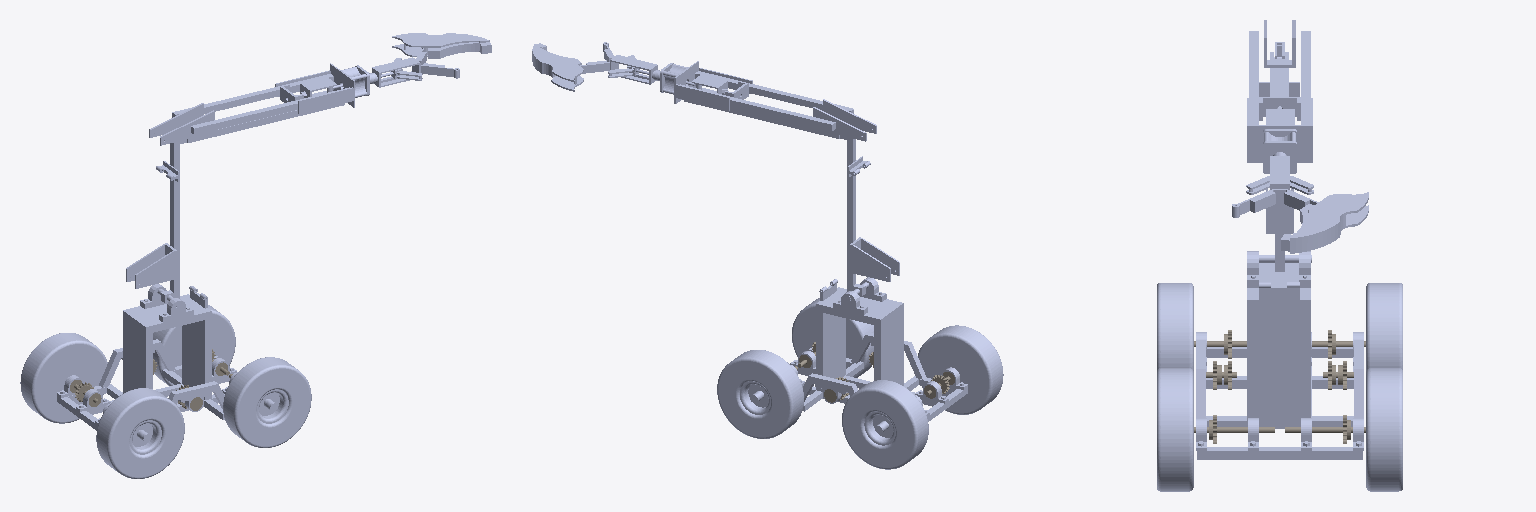
--- Facts derived from the render (not from the file) ---
Views: 3 orthographic renders of the robot side by side, from view 1: azimuth 30°, elevation 25°; view 2: azimuth 150°, elevation 25°; view 3: azimuth 270°, elevation 25°.
Model Assem_fnl with 19 links and 18 joints (11 revolute, 1 prismatic, 6 fixed), rooted at base_link, posed all joints at 0.
Links seen in each view (by area): view 1: motorkooper_link, link_t2_2, link_t1_2, link_t2_1, struct_over_dual_link, base_link, rod_wth_cylin_link, dual_redrod_link, link_t1_1, claw_2_link, sub_claw_part_1_link, claw_part_2_2_link; view 2: motorkooper_link, link_t2_1, link_t1_1, link_t2_2, struct_over_dual_link, base_link, rod_wth_cylin_link, dual_redrod_link, link_t1_2, claw_2_link, sub_claw_part_1_link, claw_part_2_2_link; view 3: motorkooper_link, base_link, struct_over_dual_link, link_t1_2, link_t1_1, link_t2_1, link_t2_2, claw_2_link, rod_wth_cylin_link, sub_claw_part_1_link, dual_redrod_link, claw_part_2_2_link.
Link boxes in pixels (<box>): motorkooper_link: <box>123,284,211,399</box>; link_t2_2: <box>96,388,184,478</box>; link_t1_2: <box>223,357,311,447</box>; link_t2_1: <box>20,333,107,423</box>; struct_over_dual_link: <box>172,63,376,134</box>; base_link: <box>57,339,237,430</box>; rod_wth_cylin_link: <box>126,140,186,307</box>; dual_redrod_link: <box>149,103,344,145</box>; link_t1_1: <box>153,305,235,385</box>; claw_2_link: <box>392,33,491,58</box>; sub_claw_part_1_link: <box>372,48,459,87</box>; claw_part_2_2_link: <box>300,58,422,97</box>; motorkooper_link: <box>816,277,903,391</box>; link_t2_1: <box>842,380,928,469</box>; link_t1_1: <box>717,350,803,438</box>; link_t2_2: <box>918,325,1003,414</box>; struct_over_dual_link: <box>653,61,853,130</box>; base_link: <box>790,332,967,421</box>; rod_wth_cylin_link: <box>840,135,899,300</box>; dual_redrod_link: <box>684,99,876,141</box>; link_t1_2: <box>792,298,873,377</box>; claw_2_link: <box>532,43,583,91</box>; sub_claw_part_1_link: <box>580,42,657,84</box>; claw_part_2_2_link: <box>608,55,727,94</box>; motorkooper_link: <box>1247,251,1310,421</box>; base_link: <box>1196,332,1363,459</box>; struct_over_dual_link: <box>1247,31,1312,173</box>; link_t1_2: <box>1157,368,1193,491</box>; link_t1_1: <box>1366,368,1402,491</box>; link_t2_1: <box>1366,283,1402,370</box>; link_t2_2: <box>1157,283,1193,370</box>; claw_2_link: <box>1281,192,1368,253</box>; rod_wth_cylin_link: <box>1259,42,1311,271</box>; sub_claw_part_1_link: <box>1232,156,1318,217</box>; dual_redrod_link: <box>1264,20,1295,108</box>; claw_part_2_2_link: <box>1246,109,1313,194</box>.
Size in the robot's own frame: 1.67 by 0.6001 by 1.17 metres.
Meshes: 19 distinct files referenced, 18 mesh visuals loaded (18 binary STL); not drawn: 1 (reference not matched to a file when rendering).

The robot description file, URDF, robot "Assem_fnl":
<?xml version="1.0" encoding="utf-8"?>
<!-- This URDF was automatically created by SolidWorks to URDF Exporter! Originally created by Stephen Brawner ([email redacted])
     Commit Version: 1.6.0-1-g15f4949  Build Version: 1.6.7594.29634
     For more information, please see http://wiki.ros.org/sw_urdf_exporter -->
<robot
  name="Assem_fnl">

  <gazebo>
    <plugin name="gazebo_ros_control" filename="libgazebo_ros_control.so">
      <robotNamespace></robotNamespace>
      <robotSimType>gazebo_ros_control/DefaultRobotHWSim</robotSimType>
      <legacyModeNS>true</legacyModeNS>
    </plugin>
  </gazebo>
<!--
  <gazebo>
    <plugin name="MimicJointPlugin" filename="libroboticsgroup_gazebo_mimic_joint_plugin.so">
      <joint>claw_part_3_joint</joint>
      <mimicJoint>claw_1_joint</mimicJoint>
    </plugin>
  </gazebo>
-->
<!--
 <gazebo>
     <plugin name="Myrobot_ClosedLoopPlugin" filename="libpegasus_gazebo_closed_loop_plugin.so">
         <joint>plate_gripper_joint</joint>
         <child>claw_1_link</child>
         <parent>claw_part_3_link</parent>
         <position>0.0 0.0 0.0</position>
         <rotation>0.00 -0.00 0.00</rotation>
     </plugin>
 </gazebo>
-->

  <link
    name="base_link">
    <inertial>
      <origin
        xyz="0.000245228555021293 -0.000485601868001451 0.0326909146616174"
        rpy="0 0 0" />
      <mass
        value="50.6467934"/>
      <inertia
        ixx="0.487436962309936"
        ixy="-1.41855005569046E-05"
        ixz="0.000115722726747853"
        iyy="0.884389812574198"
        iyz="-0.000233043409626158"
        izz="1.30737819360333" />
    </inertial>
    <visual>
      <origin
        xyz="0 0 0"
        rpy="0 0 0" />
      <geometry>
        <mesh
          filename="package://Assem_fnl/meshes/visual/base_link.STL" />
      </geometry>
      <material
        name="">
        <color
          rgba="0.792156862745098 0.819607843137255 0.933333333333333 1" />
      </material>
    </visual>
    <collision>
      <origin
        xyz="0 0 0"
        rpy="0 0 0" />
      <geometry>
        <mesh
          filename="package://Assem_fnl/meshes/collision/base_link.stl" />
      </geometry>
    </collision>
  </link>
  <link
    name="link_sh1_1">
    <inertial>
      <origin
        xyz="3.60822483003176E-16 0.0266401832789713 2.77555756156289E-17"
        rpy="0 0 0" />
      <mass
        value="1.88910976344759" />
      <inertia
        ixx="0.00815057397058659"
        ixy="2.36548102133572E-17"
        ixz="0"
        iyy="0.00055983034329253"
        iyz="3.14474323677546E-18"
        izz="0.00815057397058659" />
    </inertial>
    <visual>
      <origin
        xyz="0 0 0"
        rpy="0 0 0" />
      <geometry>
        <mesh
          filename="package://Assem_fnl/meshes/visual/link_sh1_1.STL" />
      </geometry>
      <material
        name="">
        <color
          rgba="0.647058823529412 0.619607843137255 0.584313725490196 1" />
      </material>
    </visual>
    <collision>
      <origin
        xyz="0 0 0"
        rpy="0 0 0" />
      <geometry>
        <mesh
          filename="package://Assem_fnl/meshes/collision/link_sh1_1.stl" />
      </geometry>
    </collision>
  </link>
  <joint
    name="joint_sh1_1"
    type="revolute">
    <origin
      xyz="0.246 0.1631 0.053"
      rpy="0 0.61414 0" />
    <parent
      link="base_link" />
    <child
      link="link_sh1_1" />
    <axis
      xyz="0 1 0" />
    <limit
      lower="0"
      upper="6.283"
      effort="0"
      velocity="0" />
      <!-- forward +ve -->

  </joint>
  <link
    name="link_t1_1">
    <inertial>
      <origin
        xyz="0 -0.0437281587639727 3.46944695195361E-18"
        rpy="0 0 0" />
      <mass
        value="7" />
      <inertia
        ixx="0.90"
        ixy="0.97"
        ixz="0.78"
        iyx="0.97"
        iyy="2.19"
        iyz="0.42"
        izx="0.78"
        izy="0.42"
        izz="2.41" />
    </inertial>
    <visual>
      <origin
        xyz="0 0 0"
        rpy="0 0 0" />
      <geometry>
        <mesh
          filename="package://Assem_fnl/meshes/visual/link_t1_1.STL" />
      </geometry>
      <material
        name="">
        <color
          rgba="0.792156862745098 0.819607843137255 0.933333333333333 1" />
      </material>
    </visual>
    <collision>
      <origin
        xyz="0 0 0"
        rpy="0 0 0" />
      <geometry>
        <mesh
          filename="package://Assem_fnl/meshes/collision/link_t1_1.stl" />
      </geometry>
    </collision>
  </link>
  <joint
    name="joint_t1_1"
    type="fixed">
    <origin
      xyz="0 0.047 0"
      rpy="3.1416 -1.3284 0" />
    <parent
      link="link_sh1_1" />
    <child
      link="link_t1_1" />
    <axis
      xyz="0 0 0" />
    <limit
      lower="0"
      upper="0"
      effort="0"
      velocity="0" />
    <dynamics
      friction= "1000" />
  </joint>
  <link
    name="link_sh1_2">
    <inertial>
      <origin
        xyz="3.81639164714898E-16 0.0266401832789712 0"
        rpy="0 0 0" />
      <mass
        value="1.88910976344759" />
      <inertia
        ixx="0.00815057397058659"
        ixy="2.3314941049737E-17"
        ixz="0"
        iyy="0.00055983034329253"
        iyz="2.99631939640779E-18"
        izz="0.00815057397058659" />
    </inertial>
    <visual>
      <origin
        xyz="0 0 0"
        rpy="0 0 0" />
      <geometry>
        <mesh
          filename="package://Assem_fnl/meshes/visual/link_sh1_2.STL" />
      </geometry>
      <material
        name="">
        <color
          rgba="0.647058823529412 0.619607843137255 0.584313725490196 1" />
      </material>
    </visual>
    <collision>
      <origin
        xyz="0 0 0"
        rpy="0 0 0" />
      <geometry>
        <mesh
          filename="package://Assem_fnl/meshes/collision/link_sh1_2.stl" />
      </geometry>
    </collision>
  </link>
  <joint
    name="joint_sh1_2"
    type="revolute">
    <origin
      xyz="0.246 -0.163 0.053"
      rpy="0 -0.37309 3.1416" />
    <parent
      link="base_link" />
    <child
      link="link_sh1_2" />
    <axis
      xyz="0 1 0" />
    <limit
      lower="0"
      upper="6.283"
      effort="10"
      velocity="2" />
      <!--forward at negative -->
  </joint>
  <link
    name="link_t1_2">
    <inertial>
      <origin
        xyz="-6.93889390390723E-18 -0.0437281587639726 0"
        rpy="0 0 0" />
      <mass
        value="7" />
      <inertia
        ixx="1.01"
        ixy="0.01"
        ixz="0"
        iyx="0.01"
        iyy="0.21"
        iyz="0.00"
        izx="0"
        izy="0.00"
        izz="1.15" />
    </inertial>
    <visual>
      <origin
        xyz="0 0 0"
        rpy="0 0 0" />
      <geometry>
        <mesh
          filename="package://Assem_fnl/meshes/visual/link_t1_2.STL" />
      </geometry>
      <material
        name="">
        <color
          rgba="0.792156862745098 0.819607843137255 0.933333333333333 1" />
      </material>
    </visual>
    <collision>
      <origin
        xyz="0 0 0"
        rpy="0 0 0" />
      <geometry>
        <mesh
          filename="package://Assem_fnl/meshes/collision/link_t1_2.stl" />
      </geometry>
    </collision>
  </link>
  <joint
    name="joint_t1_2"
    type="fixed">
    <origin
      xyz="0 0.047 0"
      rpy="0 0.6334 3.1416" />
    <parent
      link="link_sh1_2" />
    <child
      link="link_t1_2" />
    <axis
      xyz="0 0 0" />
    <limit
      lower="0"
      upper="0"
      effort="0"
      velocity="0" />
    <dynamics
      friction ="1000" />
  </joint>
  <link
    name="link_sh2_1">
    <inertial>
      <origin
        xyz="4.44089209850063E-16 0.00429143099730334 -1.11022302462516E-16"
        rpy="0 0 0" />
      <mass
        value="1.91717027267991" />
      <inertia
        ixx="0.00832905389350432"
        ixy="-7.8383224326297E-19"
        ixz="0"
        iyy="0.00056061954511469"
        iyz="1.47358871394239E-19"
        izz="0.00832905389350432" />
    </inertial>
    <visual>
      <origin
        xyz="0 0 0"
        rpy="0 0 0" />
      <geometry>
        <mesh
          filename="package://Assem_fnl/meshes/visual/link_sh2_1.STL" />
      </geometry>
      <material
        name="">
        <color
          rgba="0.647058823529412 0.619607843137255 0.584313725490196 1" />
      </material>
    </visual>
    <collision>
      <origin
        xyz="0 0 0"
        rpy="0 0 0" />
      <geometry>
        <mesh
          filename="package://Assem_fnl/meshes/collision/link_sh2_1.stl" />
      </geometry>
    </collision>
  </link>
  <joint
    name="joint_sh2_1"
    type="revolute">
    <origin
      xyz="-0.246 0.127 0.053"
      rpy="3.1416 1.0385 3.1416" />
    <parent
      link="base_link" />
    <child
      link="link_sh2_1" />
    <axis
      xyz="0 1 0" />
    <limit
      lower="0"
      upper="6.283"
      effort="0"
      velocity="0" />

  </joint>
  <link
    name="link_t2_1">
    <inertial>
      <origin
        xyz="-1.11022302462516E-16 -0.0437281587639727 2.77555756156289E-17"
        rpy="0 0 0" />
      <mass
        value="7" />
      <inertia
        ixx="0.90"
        ixy="0.03"
        ixz="0.03"
        iyx="0.03"
        iyy="0.38"
        iyz="0.42"
        izx="0.03"
        izy="0.42"
        izz="0.60"  />
    </inertial>
    <visual>
      <origin
        xyz="0 0 0"
        rpy="0 0 0" />
      <geometry>
        <mesh
          filename="package://Assem_fnl/meshes/visual/link_t2_1.STL" />
      </geometry>
      <material
        name="">
        <color
          rgba="0.792156862745098 0.819607843137255 0.933333333333333 1" />
      </material>
    </visual>
    <collision>
      <origin
        xyz="0 0 0"
        rpy="0 0 0" />
      <geometry>
        <mesh
          filename="package://Assem_fnl/meshes/collision/link_t2_1.stl" />
      </geometry>
    </collision>
  </link>
  <joint
    name="joint_t2_1"
    type="fixed">
    <origin
      xyz="0 0.083 0"
      rpy="3.1416 -0.37818 0" />
    <parent
      link="link_sh2_1" />
    <child
      link="link_t2_1" />
    <axis
      xyz="0 0 0" />
    <limit
      lower="0"
      upper="0"
      effort="0"
      velocity="0" />
    <dynamics
      friction ="1000" />
  </joint>
  <link
    name="link_sh2_2">
    <inertial>
      <origin
        xyz="3.33066907387547E-16 0.00429143099730334 -5.55111512312578E-17"
        rpy="0 0 0" />
      <mass
        value="1.91717027267991" />
      <inertia
        ixx="0.00832905389350432"
        ixy="-1.02531408348597E-18"
        ixz="0"
        iyy="0.00056061954511469"
        iyz="-8.7774241875515E-22"
        izz="0.00832905389350432" />
    </inertial>
    <visual>
      <origin
        xyz="0 0 0"
        rpy="0 0 0" />
      <geometry>
        <mesh
          filename="package://Assem_fnl/meshes/visual/link_sh2_2.STL" />
      </geometry>
      <material
        name="">
        <color
          rgba="0.647058823529412 0.619607843137255 0.584313725490196 1" />
      </material>
    </visual>
    <collision>
      <origin
        xyz="0 0 0"
        rpy="0 0 0" />
      <geometry>
        <mesh
          filename="package://Assem_fnl/meshes/collision/link_sh2_2.stl" />
      </geometry>
    </collision>
  </link>
  <joint
    name="joint_sh2_2"
    type="revolute">
    <origin
      xyz="-0.246 -0.127 0.053"
      rpy="0 -0.080442 3.1416" />
    <parent
      link="base_link" />
    <child
      link="link_sh2_2" />
    <axis
      xyz="0 1 0" />
    <limit
      lower="0"
      upper="6.283"
      effort="0"
      velocity="0" />

  </joint>
  <link
    name="link_t2_2">
    <inertial>
      <origin
        xyz="-5.55111512312578E-17 -0.0437281587639727 -1.11022302462516E-16"
        rpy="0 0 0" />
      <mass
        value="7" />
      <inertia
        ixx="4.25"
        ixy="0.03"
        ixz="0.09"
        iyx="0.03"
        iyy="3.74"
        iyz="1.38"
        izx="0.09"
        izy="1.38"
        izz="0.60" />
    </inertial>
    <visual>
      <origin
        xyz="0 0 0"
        rpy="0 0 0" />
      <geometry>
        <mesh
          filename="package://Assem_fnl/meshes/visual/link_t2_2.STL" />
      </geometry>
      <material
        name="">
        <color
          rgba="0.792156862745098 0.819607843137255 0.933333333333333 1" />
      </material>
    </visual>
    <collision>
      <origin
        xyz="0 0 0"
        rpy="0 0 0" />
      <geometry>
        <mesh
          filename="package://Assem_fnl/meshes/collision/link_t2_2.stl" />
      </geometry>
    </collision>
  </link>
  <joint
    name="joint_t2_2"
    type="fixed">
    <origin
      xyz="0 0.083 0"
      rpy="0 -0.14131 3.1416" />
    <parent
      link="link_sh2_2" />
    <child
      link="link_t2_2" />
    <axis
      xyz="0 0 0" />
    <limit
      lower="0"
      upper="0"
      effort="0"
      velocity="0" />
    <dynamics
      friction ="1000" />

  </joint>
  <link
    name="link_Msh_1">
    <inertial>
      <origin
        xyz="-1.16573417585641E-15 -0.00188400148089063 -1.11022302462516E-16"
        rpy="0 0 0" />
      <mass
        value="1.28736459459753" />
      <inertia
        ixx="0.00141991589660242"
        ixy="2.07057765245373E-17"
        ixz="-1.62630325872826E-19"
        iyy="0.00045732350572063"
        iyz="2.53242925407615E-18"
        izz="0.00141991589660242" />
    </inertial>
    <visual>
      <origin
        xyz="0 0 0"
        rpy="0 0 0" />
      <geometry>
        <mesh
          filename="package://Assem_fnl/meshes/visual/link_Msh_1.STL" />
      </geometry>
      <material
        name="">
        <color
          rgba="0.647058823529412 0.619607843137255 0.584313725490196 1" />
      </material>
    </visual>
    <collision>
      <origin
        xyz="0 0 0"
        rpy="0 0 0" />
      <geometry>
        <mesh
          filename="package://Assem_fnl/meshes/collision/link_Msh_1.stl" />
      </geometry>
    </collision>
  </link>
  <joint
    name="joint_Msh_1"
    type="revolute">
    <origin
      xyz="0 0.152 0.085"
      rpy="3.1416 -0.48321 0" />
    <parent
      link="base_link" />
    <child
      link="link_Msh_1" />
    <axis
      xyz="0 1 0" />
    <limit
      lower="0"
      upper="0"
      effort="0"
      velocity="0" />
  </joint>
  <link
    name="link_Msh_2">
    <inertial>
      <origin
        xyz="-1.11022302462516E-15 -0.00188400148089063 -1.66533453693773E-16"
        rpy="0 0 0" />
      <mass
        value="1.28736459459753" />
      <inertia
        ixx="0.00141991589660242"
        ixy="2.07278499044851E-17"
        ixz="-1.52465930505774E-19"
        iyy="0.000457323505720631"
        iyz="2.57968883021634E-18"
        izz="0.00141991589660242" />
    </inertial>
    <visual>
      <origin
        xyz="0 0 0"
        rpy="0 0 0" />
      <geometry>
        <mesh
          filename="package://Assem_fnl/meshes/visual/link_Msh_2.STL" />
      </geometry>
      <material
        name="">
        <color
          rgba="0.647058823529412 0.619607843137255 0.584313725490196 1" />
      </material>
    </visual>
    <collision>
      <origin
        xyz="0 0 0"
        rpy="0 0 0" />
      <geometry>
        <mesh
          filename="package://Assem_fnl/meshes/collision/link_Msh_2.stl" />
      </geometry>
    </collision>
  </link>
  <joint
    name="joint_Msh_2"
    type="revolute">
    <origin
      xyz="0 -0.152 0.085"
      rpy="0 -0.02542 0" />
    <parent
      link="base_link" />
    <child
      link="link_Msh_2" />
    <axis
      xyz="0 1 0" />
    <limit
      lower="0"
      upper="0"
      effort="0"
      velocity="0" />
  </joint>
  <link
  name="motorkooper_link">
  <inertial>
    <origin
      xyz="-0.00120545300454244 -0.000461143822939658 0.233638316473452"
      rpy="0 0 0" />
    <mass
      value="17.38"  />
    <inertia
      ixx="1.01"
      ixy="0.01"
      ixz="0.00"
      iyx="0.01"
      iyy="0.21"
      iyz="0.00"
      izz="1.15" />
  </inertial>
  <visual>
    <origin
      xyz="0 0 0"
      rpy="0 0 0" />
    <geometry>
      <mesh
        filename="package://Assem_fnl/meshes/visual/motorkooper_link.STL" />
    </geometry>
    <material
      name="">
      <color
        rgba="0.792156862745098 0.819607843137255 0.933333333333333 1" />
    </material>
  </visual>
  <collision>
    <origin
      xyz="0 0 0"
      rpy="0 0 0" />
    <geometry>
      <mesh
        filename="package://Assem_fnl/meshes/collision/motorkooper_link.stl" />
    </geometry>
  </collision>
</link>
<joint
  name="motorkooper_joint"
  type="fixed">
  <origin
    xyz="-0.26 0.47 -0.22"
    rpy="1.5707 0 0" />
  <parent
    link="base_link" />
  <child
    link="motorkooper_link" />
  <axis
    xyz="0 0 0" />
  </joint>
  <link
    name="rod_wth_cylin_link">
    <inertial>
      <origin
        xyz="-0.0244108175794428 -0.012 0.159055527397006"
        rpy="0 0 0" />
      <mass
        value="4.71123767266371" />
      <inertia
        ixx="0.151060078726739"
        ixy="3.46732936958548E-18"
        ixz="-0.0154520234909176"
        iyy="0.15770726800881"
        iyz="5.13063738019691E-18"
        izz="0.0119981780843595" />
    </inertial>
    <visual>
      <origin
        xyz="0 0 0"
        rpy="0 0 0" />
      <geometry>
        <mesh
          filename="package://Assem_fnl/meshes/visual/rod_wth_cylin_link.STL" />
      </geometry>
      <material
        name="">
        <color
          rgba="0.792156862745098 0.819607843137255 0.933333333333333 1" />
      </material>
    </visual>
    <collision>
      <origin
        xyz="0 0 0"
        rpy="0 0 0" />
      <geometry>
        <mesh
          filename="package://Assem_fnl/meshes/collision/rod_wth_cylin_link.stl" />
      </geometry>
    </collision>
  </link>
  <joint
    name="rod_wth_cylin_joint"
    type="revolute">
    <origin
      xyz="0.264 0.618 0.469"
      rpy="-1.5707 0 0" />
    <parent
      link="motorkooper_link" />
    <child
      link="rod_wth_cylin_link" />
    <axis
      xyz="0 -1 0" />
    <limit
      lower="-1.5707"
      upper="0"
      effort="450"
      velocity="5" />
    <dynamics
      friction="100"
      damping="10" />
  </joint>
  <link
    name="dual_redrod_link">
    <inertial>
      <origin
        xyz="-0.285925121637021 0.00708701348815782 0.000547426734640588"
        rpy="0 0 0" />
      <mass
        value="4.96083086557093" />
      <inertia
        ixx="0.00516246254163912"
        ixy="5.51906715867348E-06"
        ixz="0.0123762688360278"
        iyy="0.205745932268244"
        iyz="-7.65215364696908E-07"
        izz="0.205914461908583" />
    </inertial>
    <visual>
      <origin
        xyz="0 0 0"
        rpy="0 0 0" />
      <geometry>
        <mesh
          filename="package://Assem_fnl/meshes/visual/dual_redrod_link.STL" />
      </geometry>
      <material
        name="">
        <color
          rgba="0.792156862745098 0.819607843137255 0.933333333333333 1" />
      </material>
    </visual>
    <collision>
      <origin
        xyz="0 0 0"
        rpy="0 0 0" />
      <geometry>
        <mesh
          filename="package://Assem_fnl/meshes/collision/dual_redrod_link.stl" />
      </geometry>
    </collision>
  </link>
  <joint
    name="dual_redrod_joint"
    type="revolute">
    <origin
      xyz="0.083 -0.003 0.576"
      rpy="0 0 0" />
    <parent
      link="rod_wth_cylin_link" />
    <child
      link="dual_redrod_link" />
    <axis
      xyz="0 1 0" />
    <limit
      lower="-1.5707"
      upper="0.872"
      effort="450"
      velocity="50" />
    <dynamics
      friction="100"
      damping ="10" />
  </joint>
  <link
    name="struct_over_dual_link">
    <inertial>
      <origin
        xyz="-0.12660154538717 -0.0749819442965102 -0.0130685587306965"
        rpy="0 0 0" />
      <mass
        value="10.5541936012649" />
      <inertia
        ixx="0.034593017975491"
        ixy="-4.12202992454498E-05"
        ixz="0.00203404927446369"
        iyy="0.446025462173523"
        iyz="3.23643700805756E-06"
        izz="0.475530168467849" />
    </inertial>
    <visual>
      <origin
        xyz="0 0 0"
        rpy="0 0 0" />
      <geometry>
        <mesh
          filename="package://Assem_fnl/meshes/visual/struct_over_dual_link.STL" />
      </geometry>
      <material
        name="">
        <color
          rgba="0.792156862745098 0.819607843137255 0.933333333333333 1" />
      </material>
    </visual>
    <collision>
      <origin
        xyz="0 0 0"
        rpy="0 0 0" />
      <geometry>
        <mesh
          filename="package://Assem_fnl/meshes/collision/struct_over_dual_link.stl" />
      </geometry>
    </collision>
  </link>
  <joint
    name="struct_over_dual_joint"
    type="fixed">
    <origin
      xyz="0.55 0.077 0.064"
      rpy="0 0 0" />
    <parent
      link="dual_redrod_link" />
    <child
      link="struct_over_dual_link" />
    <axis
      xyz="0 0 0" />
  </joint>

  <link
    name="sub_claw_part_1_link">
    <inertial>
      <origin
        xyz="-0.120154614612147 0.106923881554251 0.0149999999999999"
        rpy="0 0 0" />
      <mass
        value="2.2286648229313" />
      <inertia
        ixx="0.00474450554529489"
        ixy="-9.64460830501308E-18"
        ixz="-8.27206601008833E-18"
        iyy="0.0176232139105464"
        iyz="1.61353159007044E-18"
        izz="0.0211883448190484" />
    </inertial>
    <visual>
      <origin
        xyz="0 0 0"
        rpy="0 0 0" />
      <geometry>
        <mesh
          filename="package://Assem_fnl/meshes/visual/sub_claw_part_1_link.STL" />
      </geometry>
      <material
        name="">
        <color
          rgba="0.792156862745098 0.819607843137255 0.933333333333333 1" />
      </material>
    </visual>
    <collision>
      <origin
        xyz="0 0 0"
        rpy="0 0 0" />
      <geometry>
        <mesh
          filename="package://Assem_fnl/meshes/collision/sub_claw_part_1_link.stl" />
      </geometry>
    </collision>
  </link>
  <joint
    name="sub_claw_part_1_joint"
    type="revolute">
    <origin
      xyz="0.2715 -0.075 -0.015"
      rpy="0 0 0" />
    <parent
      link="struct_over_dual_link" />
    <child
      link="sub_claw_part_1_link" />
    <axis
      xyz="1 0 0" />
    <limit
      lower="0"
      upper="6.283"
      effort="10"
      velocity="2" />
  </joint>

  <link
  name="claw_part_2_2_link">
  <inertial>
    <origin
      xyz="-0.177150603741962 -0.0149999049377803 -1.14911758997138E-07"
      rpy="0 0 0" />
    <mass
      value="1.48172924497085" />
    <inertia
      ixx="0.00149362963443841"
      ixy="1.84684922214377E-08"
      ixz="-2.69312585031865E-08"
      iyy="0.0349934185815546"
      iyz="-2.37436554810784E-09"
      izz="0.0356299058432863" />
  </inertial>
  <visual>
    <origin
      xyz="0 0 0"
      rpy="0 0 0" />
    <geometry>
      <mesh
        filename="package://Assem_fnl/meshes/visual/claw_part_2_2_link.STL" />
    </geometry>
    <material
      name="">
      <color
        rgba="0.792156862745098 0.819607843137255 0.933333333333333 1" />
    </material>
  </visual>
  <collision>
    <origin
      xyz="0 0 0"
      rpy="0 0 0" />
    <geometry>
      <mesh
        filename="package://Assem_fnl/meshes/collision/claw_part_2_2_link.stl" />
    </geometry>
  </collision>
</link>
<joint
  name="claw_part_2_2_joint"
  type="prismatic">
  <origin
    xyz="-0.013 0 0"
    rpy="0 0 0" />
  <parent
    link="sub_claw_part_1_link" />
  <child
    link="claw_part_2_2_link" />
  <axis
    xyz="1 0 0" />
  <limit
    lower="-0.05"
    upper="0.05"
    effort="0"
    velocity="0" />
</joint>

  <link
  name="claw_1_link">
  <inertial>
    <origin
      xyz="-0.0685036800834815 0.0410807887941437 0.0149999999999997"
      rpy="0 0 0" />
    <mass
      value="3.76611840248057" />
    <inertia
      ixx="0.00648721569485819"
      ixy="-0.00484931338159159"
      ixz="-9.05152921499203E-18"
      iyy="0.027371208605494"
      iyz="-4.27670905535636E-18"
      izz="0.0319709511637982" />
  </inertial>
  <visual>
    <origin
      xyz="0 0 0"
      rpy="0 0 0" />
    <geometry>
      <mesh
        filename="package://Assem_fnl/meshes/visual/claw_1_link.STL" />
    </geometry>
    <material
      name="">
      <color
        rgba="0.792156862745098 0.819607843137255 0.933333333333333 1" />
    </material>
  </visual>
  <collision>
    <origin
      xyz="0 0 0"
      rpy="0 0 0" />
    <geometry>
      <mesh
        filename="package://Assem_fnl/meshes/collision/claw_1_link.stl" />
    </geometry>
  </collision>
</link>
<joint
  name="claw_1_joint"
  type="revolute">
  <origin
    xyz="0.158 -0.1065 0"
    rpy="0 0 0.261" />
  <parent
    link="sub_claw_part_1_link" />
  <child
    link="claw_1_link" />
  <axis
    xyz="0 0 1" />
  <limit
    lower="-0.29"
    upper="0"
    effort="10"
    velocity="5" />
    <!-- lower minus -->
</joint>


<link
name="claw_2_link">
<inertial>
  <origin
    xyz="-0.0685036800834813 0.0410807887941437 0.0149999999999999"
    rpy="0 0 0" />
  <mass
    value="3.76611840248056" />
  <inertia
    ixx="0.00648721569485816"
    ixy="-0.0048493133815916"
    ixz="-4.07757245731701E-18"
    iyy="0.027371208605494"
    iyz="-6.67090062032985E-18"
    izz="0.0319709511637982" />
</inertial>
<visual>
  <origin
    xyz="0 0 0"
    rpy="0 0 0" />
  <geometry>
    <mesh
      filename="package://Assem_fnl/meshes/visual/claw_2_link.STL" />
  </geometry>
  <material
    name="">
    <color
      rgba="0.792156862745098 0.819607843137255 0.933333333333333 1" />
  </material>
</visual>
<collision>
  <origin
    xyz="0 0 0"
    rpy="0 0 0" />
  <geometry>
    <mesh
      filename="package://Assem_fnl/meshes/collision/claw_2_link.stl" />
  </geometry>
</collision>
</link>
<joint
name="claw_2_joint"
type="revolute">
<origin
  xyz="0.158 0.1065 0"
  rpy="3.14 0 -0.261" />
<parent
  link="sub_claw_part_1_link" />
<child
  link="claw_2_link" />
<axis
  xyz="0 0 1" />
<limit
  lower="-0.29"
  upper="0"
  effort="10"
  velocity="5" />
</joint>

<!-- ################################################# PROPERTIES ############################################### -->
<gazebo reference="claw_1_link">
  <kp>100000.0</kp>
  <kd>1.0</kd>
  <mu1>10000.0</mu1>
  <mu2>10000</mu2>
  <fdir1>1 0 0</fdir1>
  <minDepth>0.01</minDepth>
</gazebo>

<gazebo reference="claw_2_link">
  <kp>100000.0</kp>
  <kd>1.0</kd>
  <mu1>20000.0</mu1>
  <mu2>20000</mu2>
  <fdir1>1 0 0</fdir1>
  <minDepth>0.01</minDepth>
</gazebo>

<gazebo reference="link_t1_1">
  <mu1>30000.0</mu1>
  <mu2>30000</mu2>
  <fdir1>0 1 0</fdir1>
  <minDepth>0.02</minDepth>
</gazebo>

<gazebo reference="link_t1_2">
  <mu1>30000.0</mu1>
  <mu2>30000</mu2>
  <fdir1>0 1 0</fdir1>
  <minDepth>0.02</minDepth>
</gazebo>

<gazebo reference="link_t2_1">
  <mu1>30000.0</mu1>
  <mu2>30000</mu2>
  <fdir1>0 1 0</fdir1>
  <minDepth>0.02</minDepth>
</gazebo>

<gazebo reference="link_t2_2">
  <mu1>30000.0</mu1>
  <mu2>30000</mu2>
  <fdir1>0 1 0</fdir1>
  <minDepth>0.02</minDepth>
</gazebo>

<gazebo>
  <gripper name="grasping">
    <grasp_check>
        <attach_steps>5</attach_steps>
        <detach_steps>10</detach_steps>
        <min_contact_count>1</min_contact_count>
    </grasp_check>
    <gripper_link>claw_1_link</gripper_link>
    <palm_link>claw_2_link</palm_link>
  </gripper>
</gazebo>
<!--########################################## SENSORS ###################################-->

  <!-- Hokuyo Laser -->

<!--
<link
name="Dummy_plate_link">
<inertial>
  <origin
    xyz="-0.0685036800834816 0.0410807887941436 0.0149999999999999"
    rpy="0 0 0" />
  <mass
    value="1" />
  <inertia
    ixx="0.000821166543652936"
    ixy="-0.000613837136910328"
    ixz="-2.35325594742188E-19"
    iyy="0.00346470995006253"
    iyz="-2.01046247881013E-19"
    izz="0.00404695584351876" />
</inertial>
<visual>
  <origin
    xyz="0 0 0"
    rpy="0 0 0" />
  <geometry>
    <mesh
      filename="package://Assem_fnl/meshes/Dummy_plate_link.STL" />
  </geometry>
  <material
    name="">
    <color
      rgba="0.792156862745098 0.819607843137255 0.933333333333333 1" />
  </material>
</visual>
<collision>
  <origin
    xyz="0 0 0"
    rpy="0 0 0" />
  <geometry>
    <mesh
      filename="package://Assem_fnl/meshes/Dummy_plate_link.STL" />
  </geometry>
</collision>
</link>
<joint
name="Dummy_plate_joint"
type="fixed">
<origin
  xyz="0 0 0"
  rpy="0 0 0" />
<parent
  link="claw_part_3_2_link" />
<child
  link="Dummy_plate_link" />
<axis
  xyz="0 0 1" />
<limit
  lower="0"
  upper="0"
  effort="1000"
  velocity="2" />
</joint>
-->
<!--
<gazebo reference="">
  <friction>3</friction>
  <friction2>3</friction2>
  <kp>100000</kp>
  <kd>10000</kd>
  <dampingFactor>6</dampingFactor>
</gazebo>
-->
<!--
<gazebo>
        <joint name='plate_gripper_joint' type='revolute'>
            <child>claw_1_link</child>
            <parent>claw_part_3_link</parent>
            <pose>-0.055 -0.0525 0
              0 0 0 </pose>
            <axis>
                <xyz>0 0 0</xyz>
                <limit>
                  <lower>-3</lower>
                    <upper>3</upper>
                    <effort>1</effort>
                    <velocity>10</velocity>
                </limit>
                <dynamics>
                    <damping>10</damping>
                    <friction>10</friction>
                    <spring_reference>0</spring_reference>
                    <spring_stiffness>0</spring_stiffness>
                </dynamics>
                <use_parent_model_frame>1</use_parent_model_frame>
            </axis>
        </joint>
  </gazebo>

  <gazebo>
          <joint name='plate2_gripper2_joint' type='revolute'>
              <child>claw_2_link</child>
              <parent>claw_part_3_2_link</parent>
              <pose>-0.055 -0.0525 0
                0 0 0</pose>
              <axis>
                  <xyz>0 0 0</xyz>
                  <limit>
                      <lower>3</lower>
                      <upper>-3</upper>
                      <effort>1</effort>
                      <velocity>10</velocity>
                  </limit>
                  <dynamics>
                      <damping>10</damping>
                      <friction>10</friction>
                      <spring_reference>0</spring_reference>
                      <spring_stiffness>0</spring_stiffness>
                  </dynamics>
                  <use_parent_model_frame>1</use_parent_model_frame>
              </axis>
          </joint>
    </gazebo>
-->



  <transmission name="T1">
  <type>transmission_interface/SimpleTransmission</type>
  <joint name="joint_sh1_1">
    <hardwareInterface>hardware_interface/EffortJointInterface</hardwareInterface>
  </joint>
  <actuator name="M1">
    <hardwareInterface>hardware_interface/EffortJointInterface</hardwareInterface>
    <mechanicalReduction>1</mechanicalReduction>
  </actuator>
</transmission>

<transmission name="T2">
<type>transmission_interface/SimpleTransmission</type>
<joint name="joint_sh1_2">
  <hardwareInterface>hardware_interface/EffortJointInterface</hardwareInterface>
</joint>
<actuator name="M2">
  <hardwareInterface>hardware_interface/EffortJointInterface</hardwareInterface>
  <mechanicalReduction>1</mechanicalReduction>
</actuator>
</transmission>

<transmission name="T3">
<type>transmission_interface/SimpleTransmission</type>
<joint name="joint_sh2_1">
  <hardwareInterface>hardware_interface/EffortJointInterface</hardwareInterface>
</joint>
<actuator name="M3">
  <hardwareInterface>hardware_interface/EffortJointInterface</hardwareInterface>
  <mechanicalReduction>1</mechanicalReduction>
</actuator>
</transmission>

<transmission name="T4">
<type>transmission_interface/SimpleTransmission</type>
<joint name="joint_sh2_2">
  <hardwareInterface>hardware_interface/EffortJointInterface</hardwareInterface>
</joint>
<actuator name="M4">
  <hardwareInterface>hardware_interface/EffortJointInterface</hardwareInterface>
  <mechanicalReduction>1</mechanicalReduction>
</actuator>
</transmission>

<transmission name="T5">
<type>transmission_interface/SimpleTransmission</type>
<joint name="rod_wth_cylin_joint">
  <hardwareInterface>hardware_interface/EffortJointInterface</hardwareInterface>
</joint>
<actuator name="M5">
  <hardwareInterface>hardware_interface/EffortJointInterface</hardwareInterface>
  <mechanicalReduction>1</mechanicalReduction>
</actuator>
</transmission>

<transmission name="T6">
<type>transmission_interface/SimpleTransmission</type>
<joint name="dual_redrod_joint">
  <hardwareInterface>hardware_interface/EffortJointInterface</hardwareInterface>
</joint>
<actuator name="M6">
  <hardwareInterface>hardware_interface/EffortJointInterface</hardwareInterface>
  <mechanicalReduction>1</mechanicalReduction>
</actuator>
</transmission>

<transmission name="T7">
<type>transmission_interface/SimpleTransmission</type>
<joint name="sub_claw_part_1_joint">
  <hardwareInterface>hardware_interface/EffortJointInterface</hardwareInterface>
</joint>
<actuator name="M7">
  <hardwareInterface>hardware_interface/EffortJointInterface</hardwareInterface>
  <mechanicalReduction>1</mechanicalReduction>
</actuator>
</transmission>


<transmission name="T8">
<type>transmission_interface/SimpleTransmission</type>
<joint name="claw_2_joint">
  <hardwareInterface>hardware_interface/EffortJointInterface</hardwareInterface>
</joint>
<actuator name="M8">
  <hardwareInterface>hardware_interface/EffortJointInterface</hardwareInterface>
  <mechanicalReduction>1</mechanicalReduction>
</actuator>
</transmission>


<transmission name="T9">
<type>transmission_interface/SimpleTransmission</type>
<joint name="claw_1_joint">
  <hardwareInterface>hardware_interface/EffortJointInterface</hardwareInterface>
</joint>
<actuator name="M9">
  <hardwareInterface>hardware_interface/EffortJointInterface</hardwareInterface>
  <mechanicalReduction>1</mechanicalReduction>
</actuator>
</transmission>



</robot>
